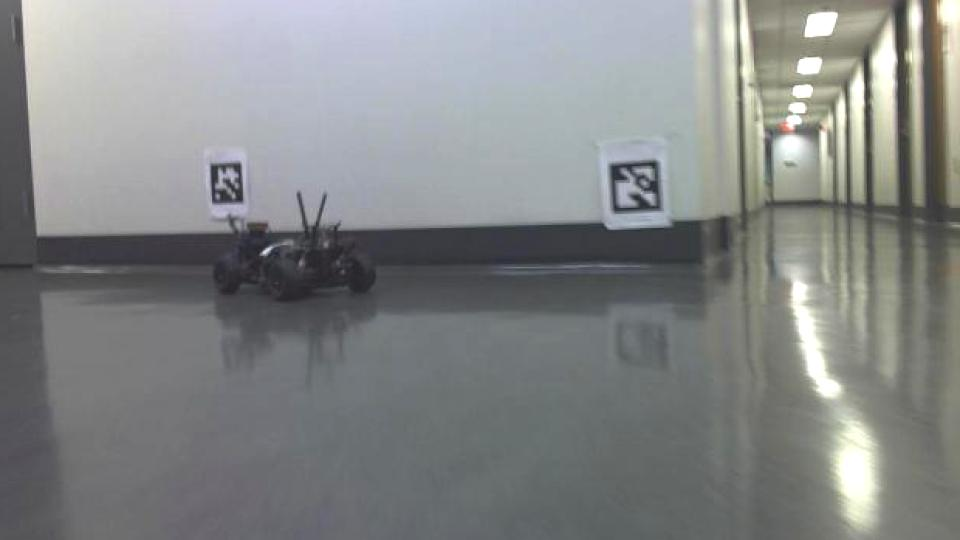car: (207, 188, 380, 304)
